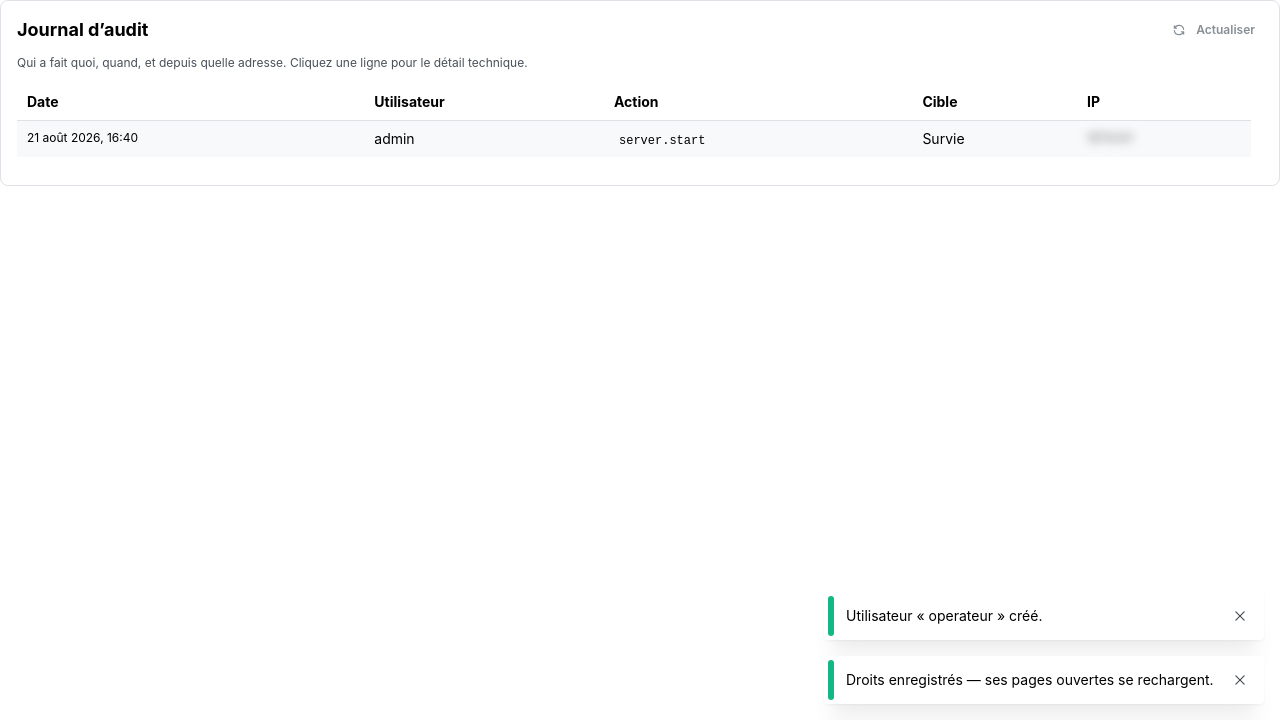
Test: réglages — utilisateurs et audit › journal d’audit : lignes lisibles, détail au clic
Expected: the row with test id "audit-42" shows "admin", left=374, top=130, right=415, bottom=147
Expected: the row with test id "audit-42" shows "server.start", left=619, top=134, right=705, bottom=148
Click the row with test id "audit-42" at [634, 139], box left=17, top=120, right=1251, bottom=157
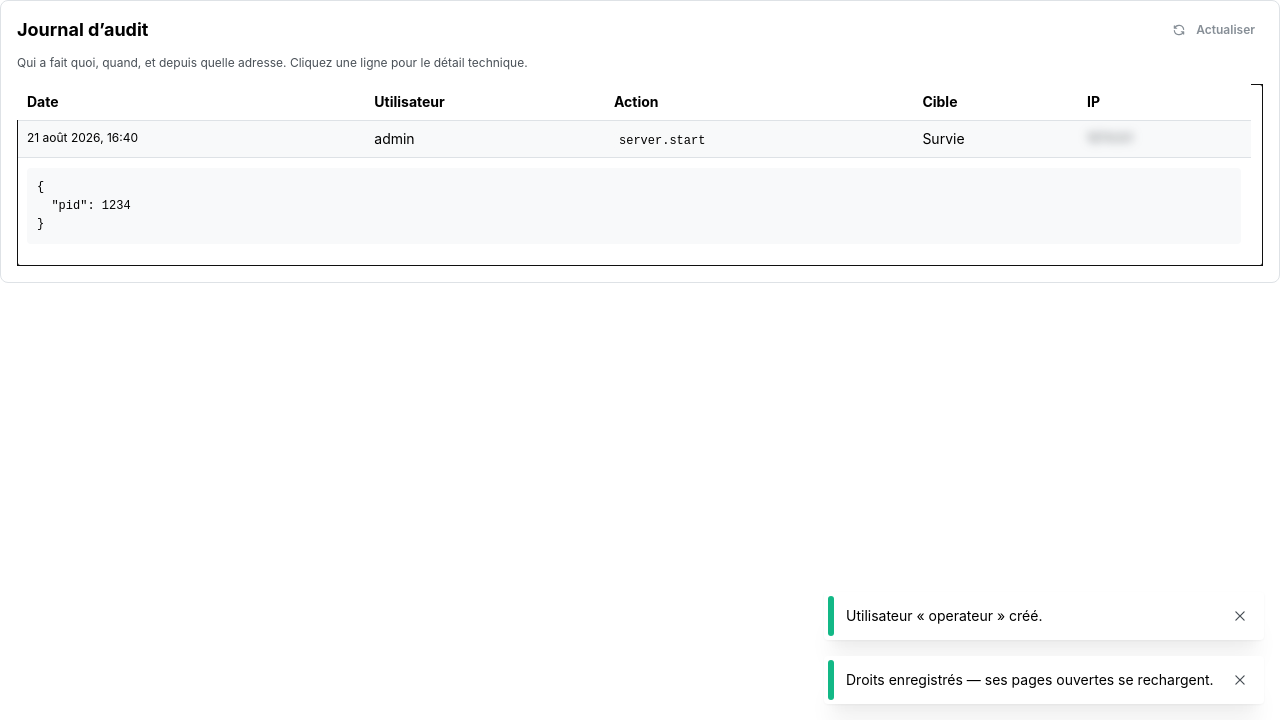
Expected: the text "{ \"pid\": 1234 }" is shown, left=27, top=168, right=1241, bottom=244
